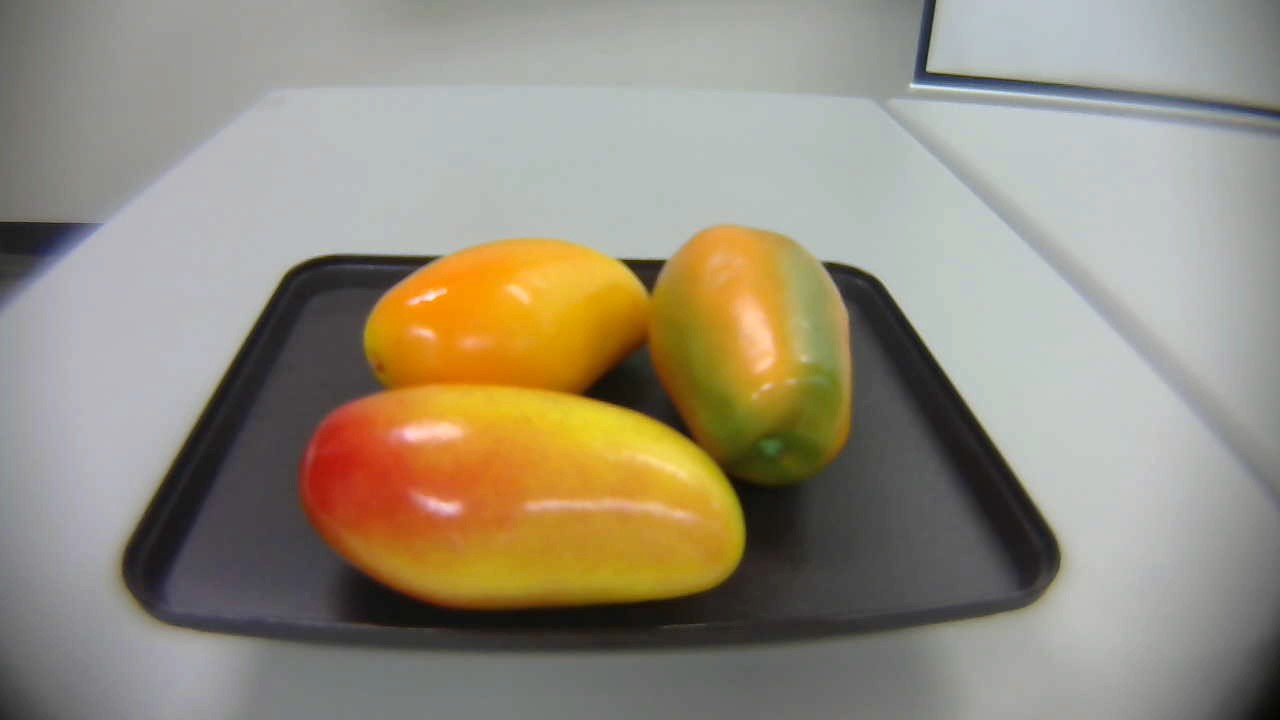papya: (639, 227, 859, 487)
red mango: (305, 385, 757, 611)
yellow mango: (357, 238, 660, 413)
